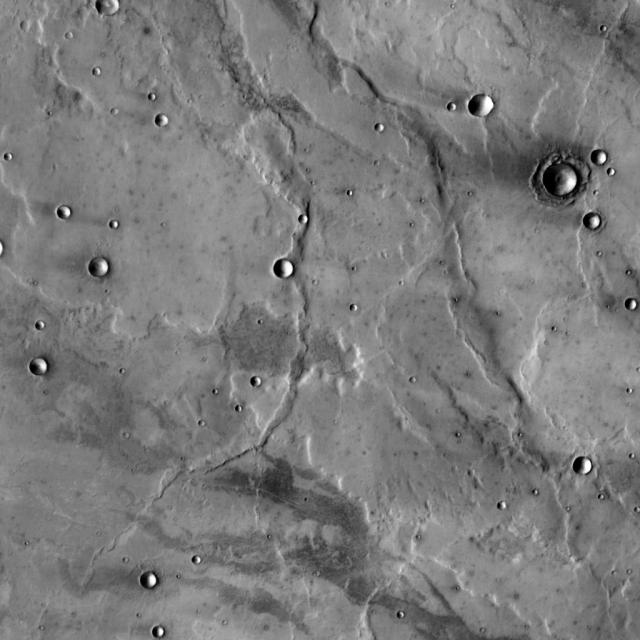crater: (0, 30, 312, 513), (535, 311, 640, 438), (546, 164, 580, 197), (472, 94, 496, 119), (98, 0, 123, 18), (276, 260, 296, 280), (575, 456, 595, 475), (91, 260, 111, 278), (33, 358, 51, 376), (586, 212, 604, 230), (142, 573, 160, 590), (594, 150, 610, 166), (60, 206, 74, 220), (627, 297, 640, 310), (157, 115, 170, 128), (155, 628, 167, 640), (80, 8, 92, 20), (23, 19, 33, 30), (113, 222, 123, 231), (255, 380, 264, 389), (451, 106, 460, 115), (379, 125, 388, 134), (40, 323, 49, 331), (501, 504, 510, 512), (7, 153, 16, 161), (97, 68, 105, 76), (302, 218, 310, 226), (106, 102, 114, 110), (605, 162, 612, 170), (197, 559, 204, 567), (68, 33, 76, 40), (151, 94, 158, 102), (230, 399, 237, 406), (406, 370, 412, 378), (392, 606, 400, 612), (597, 19, 604, 25), (345, 298, 352, 304)
